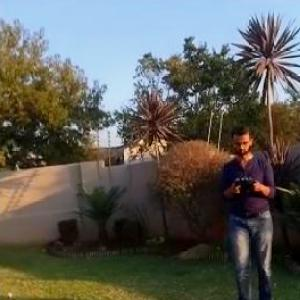follow: (218, 119, 281, 299)
null: (6, 289, 101, 299)
